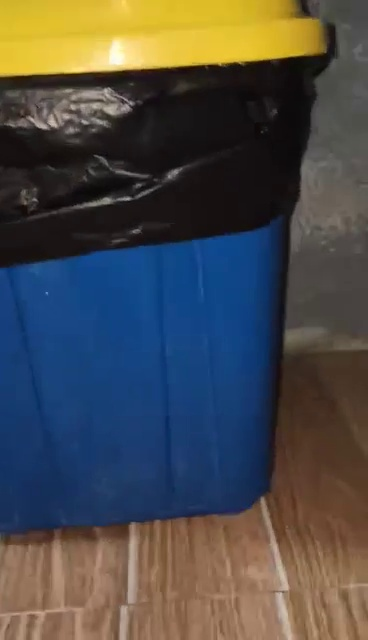garbagebin: (1, 1, 335, 537)
